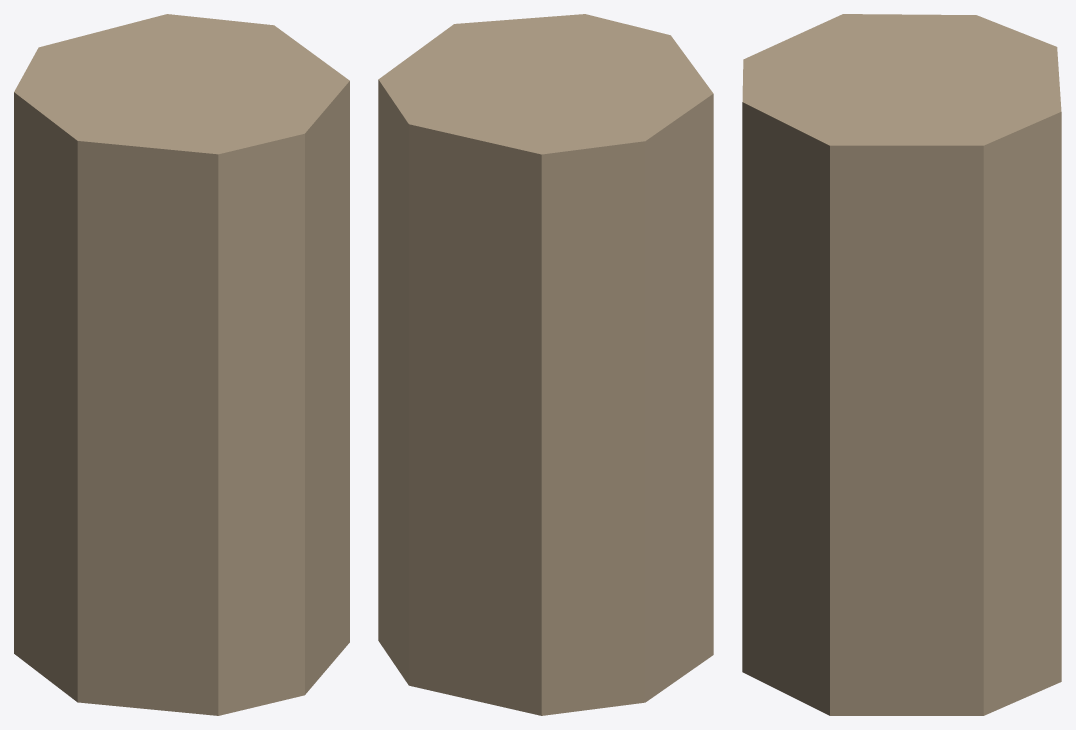
File: bld_98640385.dae
3 views of the same model, side by side, from view 1: azimuth 30°, elevation 25°; view 2: azimuth 150°, elevation 25°; view 3: azimuth 270°, elevation 25° (orthographic).
Visible parts, largest first — view 1: War Memorial; view 2: War Memorial; view 3: War Memorial.
Part boxes in pixels (left/top/right/bottom): War Memorial: left=14, top=14, right=349, bottom=715; War Memorial: left=378, top=14, right=713, bottom=715; War Memorial: left=742, top=14, right=1061, bottom=715.
Size of the model in its own units: 3.96 by 4.06 by 8.
